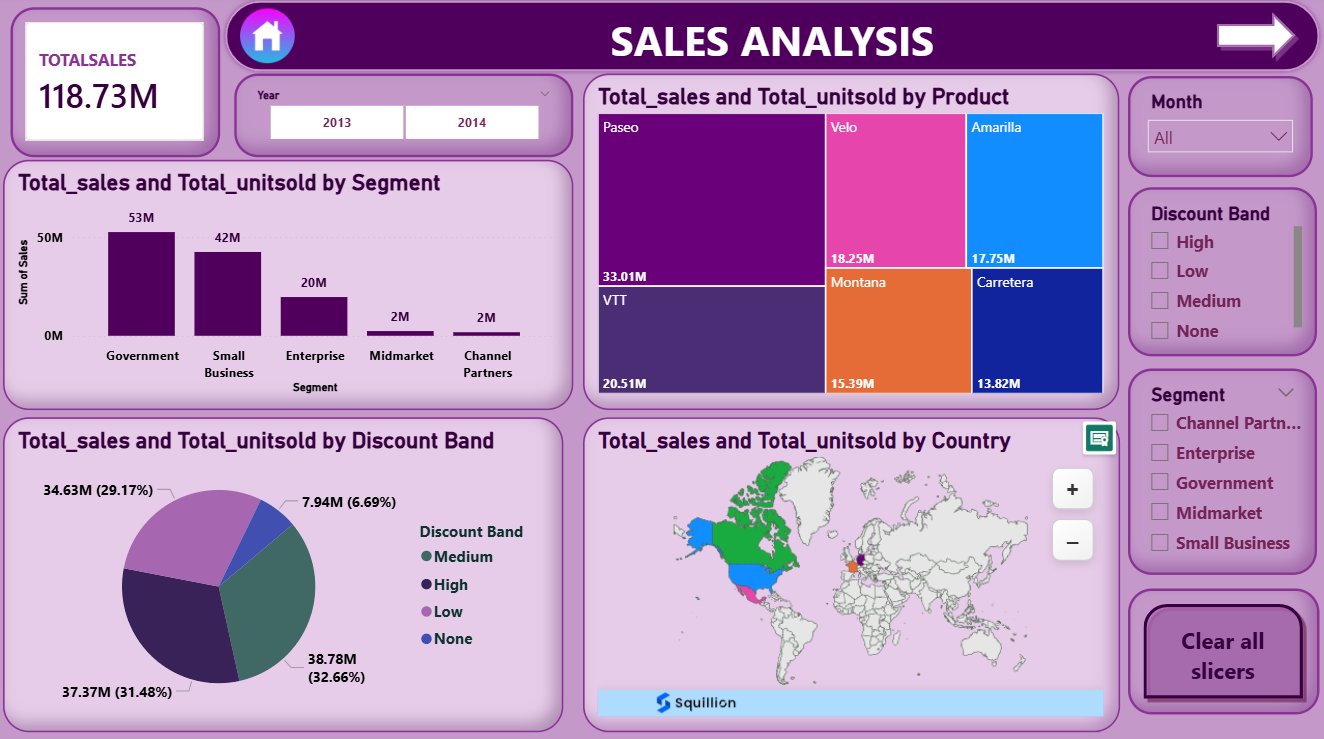

Layout of this report page (visuals, bound fields, positions):
{"tool":"powerbi","page":{"name":"SALES_ANALYSIS","canvas":[1280,720],"ordinal":1},"visuals":[{"type":"columnChart","title":"Total_sales and Total_unitsold by Segment","fields":{"Category":["financials.Segment"],"Y":["Sum(financials. Sales)"]},"box":[4.8,158,550.1,241.3],"z":0},{"type":"pieChart","title":"Total_sales and Total_unitsold by Discount Band","fields":{"Category":["financials.Discount Band"],"Y":["Sum(financials. Sales)"]},"box":[4.8,406.6,540.5,304],"z":1000},{"type":"treemap","title":"Total_sales and Total_unitsold by Product","fields":{"Group":["financials.Product"],"Values":["Sum(financials. Sales)"]},"box":[564.6,74.8,517.6,324.5],"z":2000},{"type":"shape","box":[214.7,0,1065.3,77.2],"z":3000},{"type":"slicer","fields":{"Values":["financials.Date.Variation.Date Hierarchy.Year"]},"box":[228,74.8,326.9,80.8],"z":4000},{"type":"slicer","fields":{"Values":["financials.Segment"]},"box":[1090.6,359.5,182.2,199.1],"z":5000},{"type":"slicer","fields":{"Values":["financials.Date.Variation.Date Hierarchy.Month"]},"box":[1090.6,77.2,178.6,97.7],"z":6000},{"type":"actionButton","box":[1090.6,571.9,184.6,121.9],"z":7000},{"type":"slicer","fields":{"Values":["financials.Discount Band"]},"box":[1090.6,184.6,182.2,162.9],"z":8000},{"type":"shape","box":[1171.5,10.9,85.7,54.3],"z":9000},{"type":"cardVisual","fields":{"Data":["financials.TOTALSALES"]},"box":[12.1,10.9,202.7,144.8],"z":10000},{"type":"MapBySquillion","title":"Total_sales and Total_unitsold by Country","fields":{"category":["financials.Country"],"value":["financials.TOTALSALES"]},"box":[565,407,518,304],"z":11000},{"type":"image","box":[228,12.1,63.9,53.1],"z":12000}]}

Visuals, with their boxes in screenshot pixels (x1, y1, x2, y2), scaled from the page's 1280x720 canvas onto the 1324x739 screenshot:
"Total_sales and Total_unitsold by Segment" columnChart: BBox(5, 162, 574, 410)
"Total_sales and Total_unitsold by Discount Band" pieChart: BBox(5, 417, 564, 729)
"Total_sales and Total_unitsold by Product" treemap: BBox(584, 77, 1119, 410)
shape: BBox(222, 0, 1323, 79)
slicer - financials.Date.Variation.Date Hierarchy.Year: BBox(236, 77, 574, 160)
slicer - financials.Segment: BBox(1128, 369, 1317, 573)
slicer - financials.Date.Variation.Date Hierarchy.Month: BBox(1128, 79, 1313, 180)
actionButton: BBox(1128, 587, 1319, 712)
slicer - financials.Discount Band: BBox(1128, 189, 1317, 357)
shape: BBox(1212, 11, 1300, 67)
cardVisual - financials.TOTALSALES: BBox(13, 11, 222, 160)
"Total_sales and Total_unitsold by Country" MapBySquillion: BBox(584, 418, 1120, 730)
image: BBox(236, 12, 302, 67)
